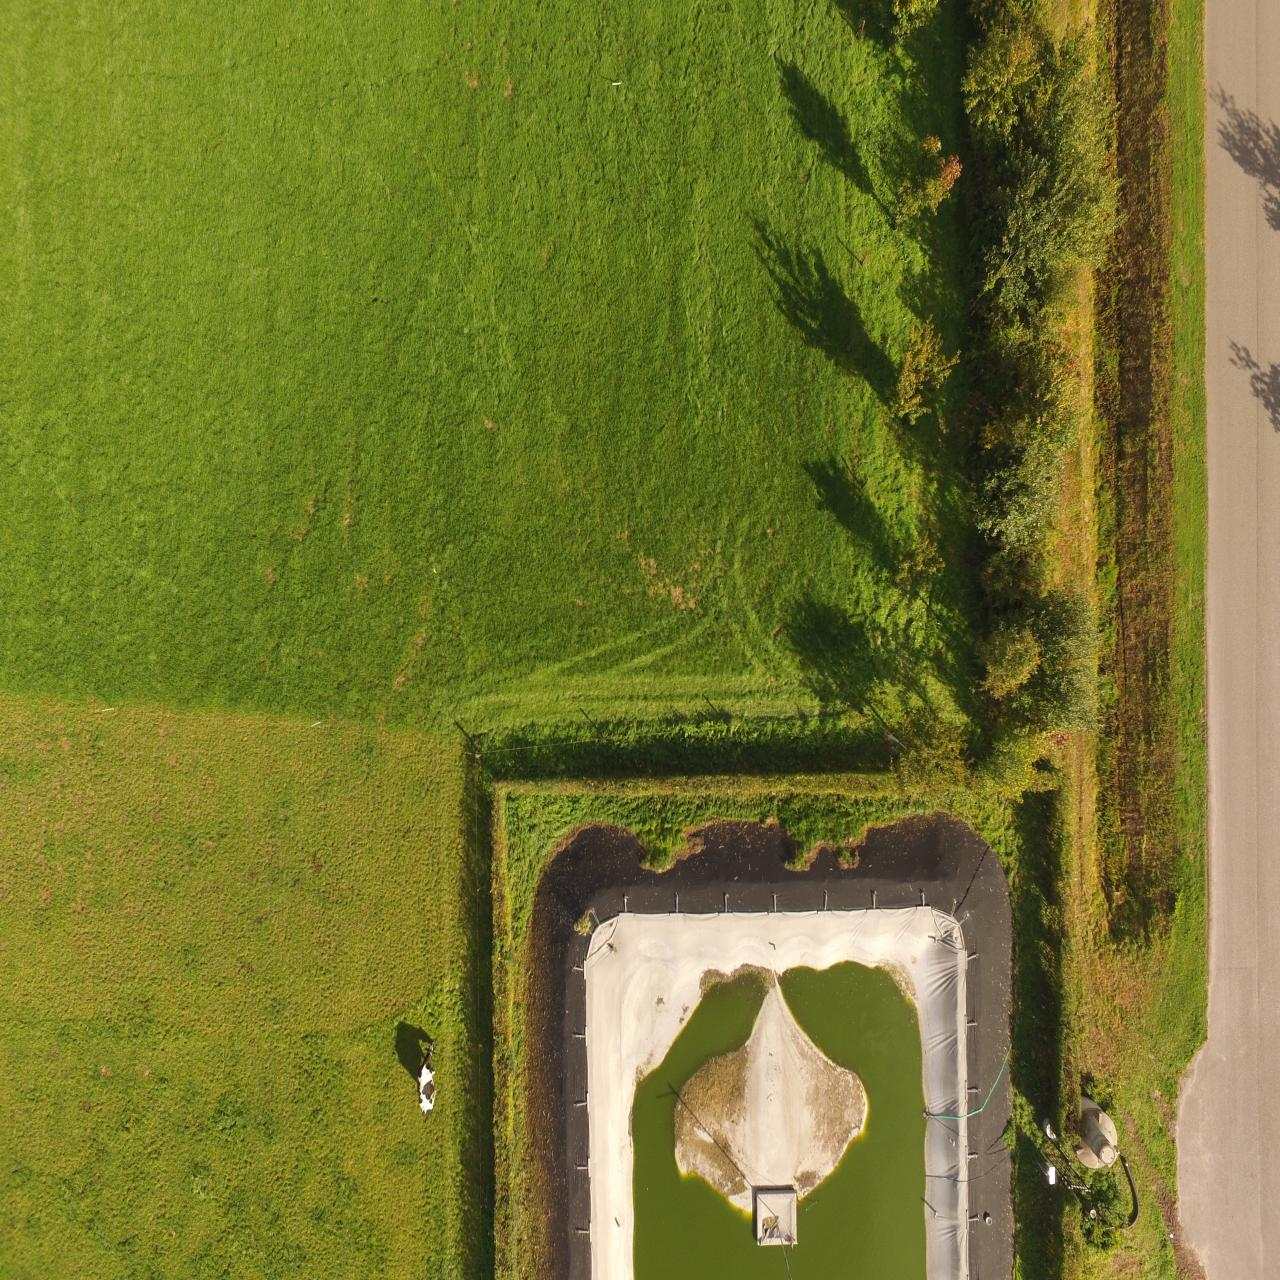cow: (414, 1040, 437, 1116)
